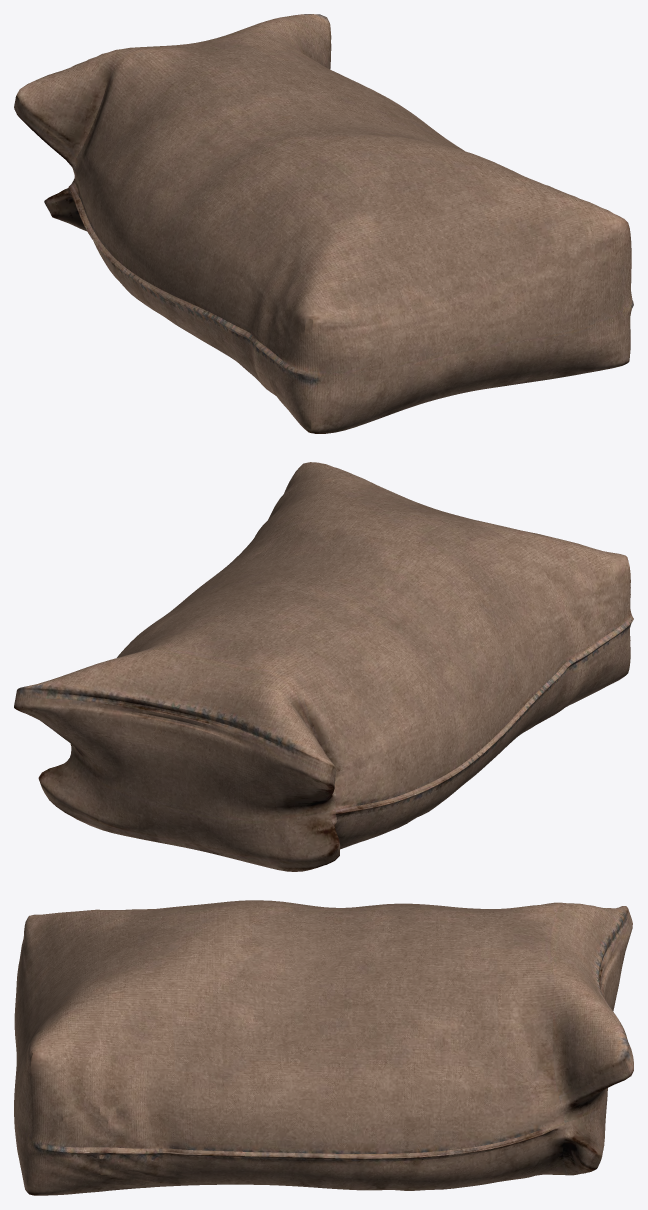
Rendered from sandbag.glb.
The picture shows the model from 3 angles, top to bottom: view 1: azimuth 30°, elevation 25°; view 2: azimuth 150°, elevation 25°; view 3: azimuth 270°, elevation 25°; orthographic projection.
Visible parts, largest first — view 1: Sandbag; view 2: Sandbag; view 3: Sandbag.
Boxes of the visible parts, bbox=[...] form: Sandbag: bbox=[14, 14, 633, 433]; Sandbag: bbox=[14, 462, 633, 871]; Sandbag: bbox=[14, 900, 633, 1195].
Size of the model in its own units: 0.329 by 0.1896 by 0.5013.
Materials: 1 (1 with a texture image).
